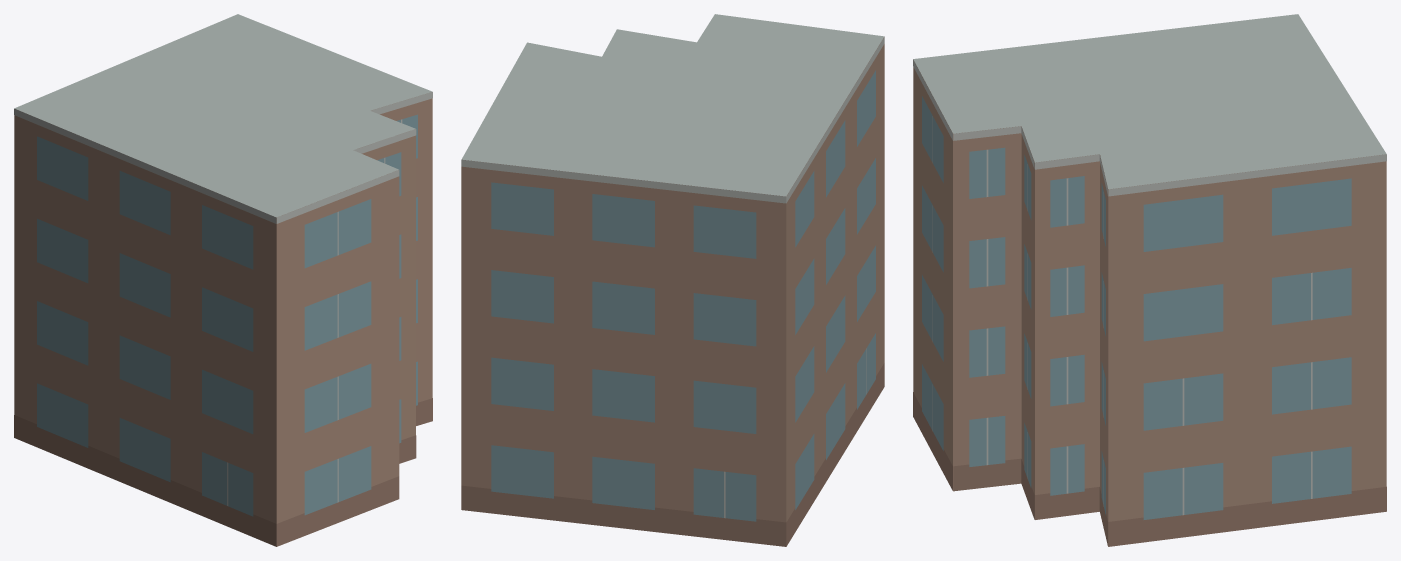
File: residential-4b3a4005-9d17-4b2c-87da-deff77dd564b.glb
The picture shows the model from 3 angles, left to right: view 1: azimuth 30°, elevation 25°; view 2: azimuth 150°, elevation 25°; view 3: azimuth 270°, elevation 25°; orthographic projection. The views are drawn at different scales.
Visible parts, largest first — view 1: residential-4b3a4005-9d17-4b2c-87da-deff77dd564b.tmp; view 2: residential-4b3a4005-9d17-4b2c-87da-deff77dd564b.tmp; view 3: residential-4b3a4005-9d17-4b2c-87da-deff77dd564b.tmp.
Boxes of the visible parts, bbox=[...] form: residential-4b3a4005-9d17-4b2c-87da-deff77dd564b.tmp: bbox=[14, 14, 432, 546]; residential-4b3a4005-9d17-4b2c-87da-deff77dd564b.tmp: bbox=[461, 14, 884, 546]; residential-4b3a4005-9d17-4b2c-87da-deff77dd564b.tmp: bbox=[913, 14, 1386, 546].
Size of the model in its own units: 12.85 by 12.2 by 14.66.
